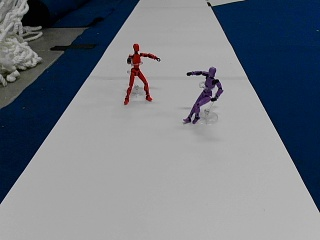pedestrian: (123, 43, 160, 104), (184, 66, 222, 123)
